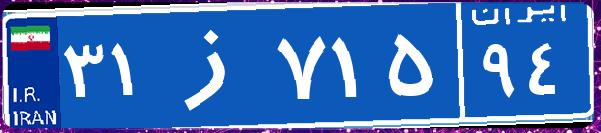1: (330, 28, 385, 110), (110, 28, 158, 105)
3: (57, 26, 110, 107)
4: (525, 38, 570, 115)
5: (385, 28, 445, 110)
7: (273, 28, 330, 110)
9: (475, 38, 525, 113)
ز: (158, 15, 273, 115)
